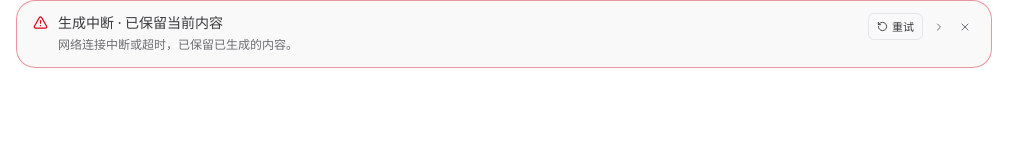
Test: StreamFailureBar › 展开详情显示原始错误，忽略按钮只收起提示
Later steps or results of the test are not shown.
Click the button named "展开错误详情". click: (939, 26)
box: [929, 16, 949, 36]
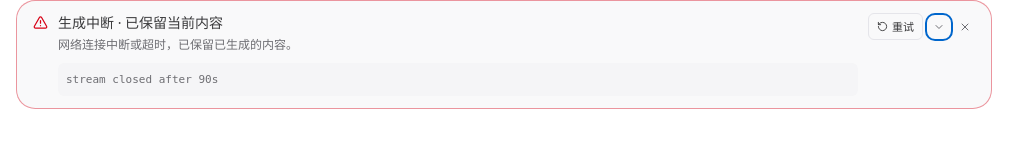
Expected: the text "stream closed after 90s" is shown, [58, 62, 858, 96]
